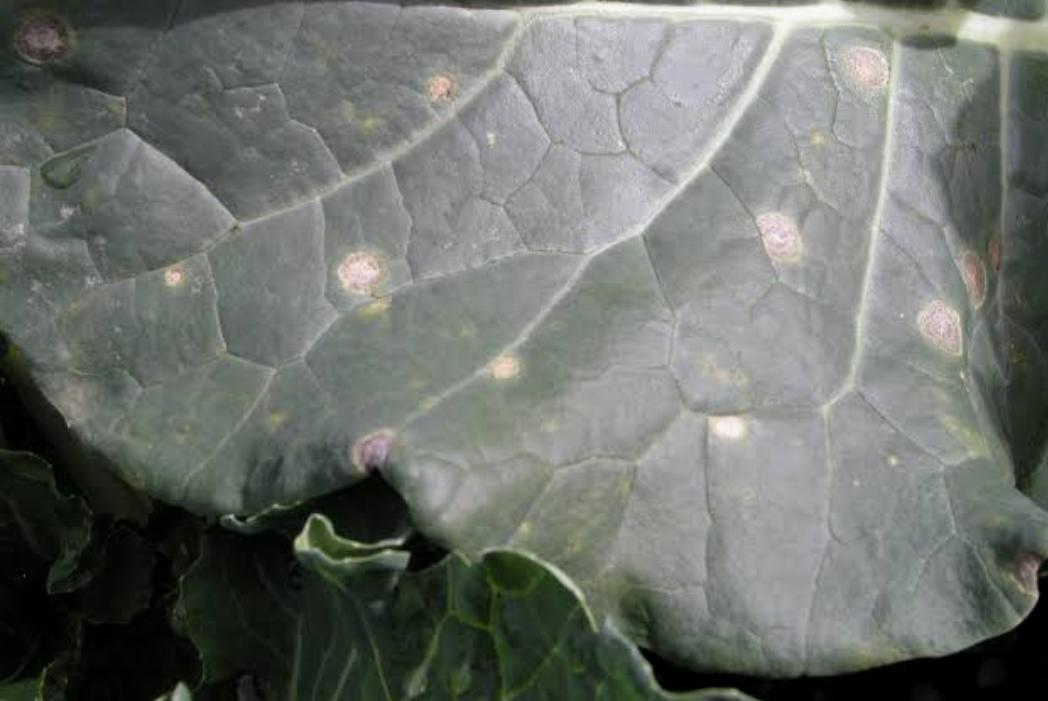Bok-Choy-Diseased: (32, 32, 1048, 534)
